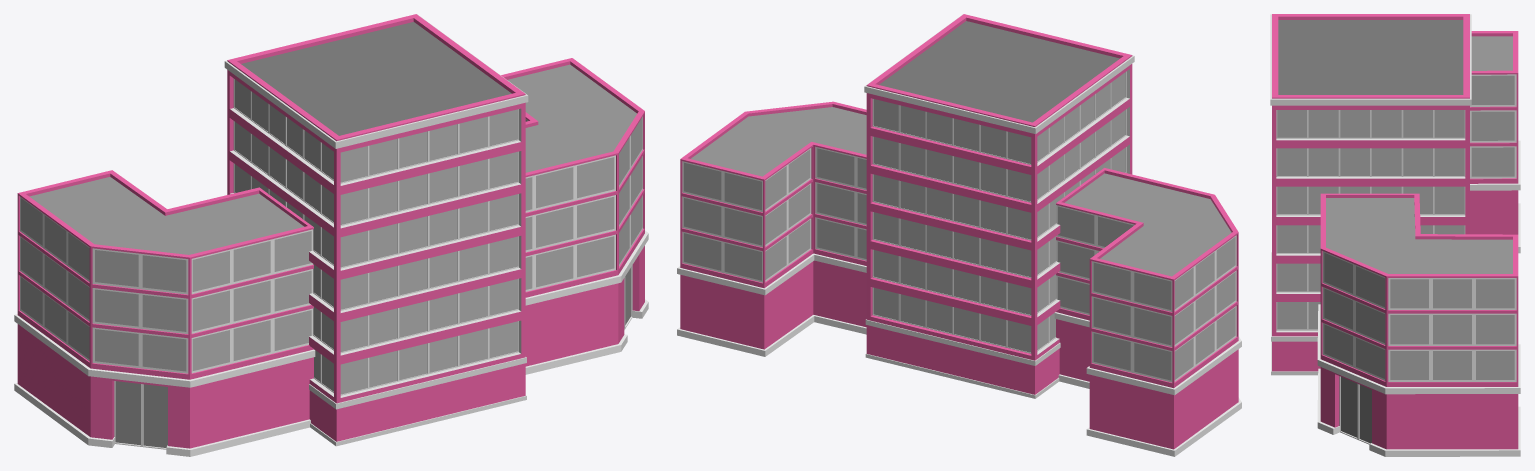
The model's file is SM_House_15_05.FBX.
3 renders of one model, left to right at view 1: azimuth 30°, elevation 25°; view 2: azimuth 150°, elevation 25°; view 3: azimuth 270°, elevation 25°, orthographic. The views are drawn at different scales.
Parts seen in each view (by area): view 1: SM_House_15_05; view 2: SM_House_15_05; view 3: SM_House_15_05.
Boxes of the visible parts, x1,y1,x2,y2 form: SM_House_15_05: (14,14,648,456); SM_House_15_05: (677,14,1241,456); SM_House_15_05: (1270,14,1520,456).
Size of the model in its own units: 17.78 by 9.28 by 7.6.
2 materials, 2 textured.
